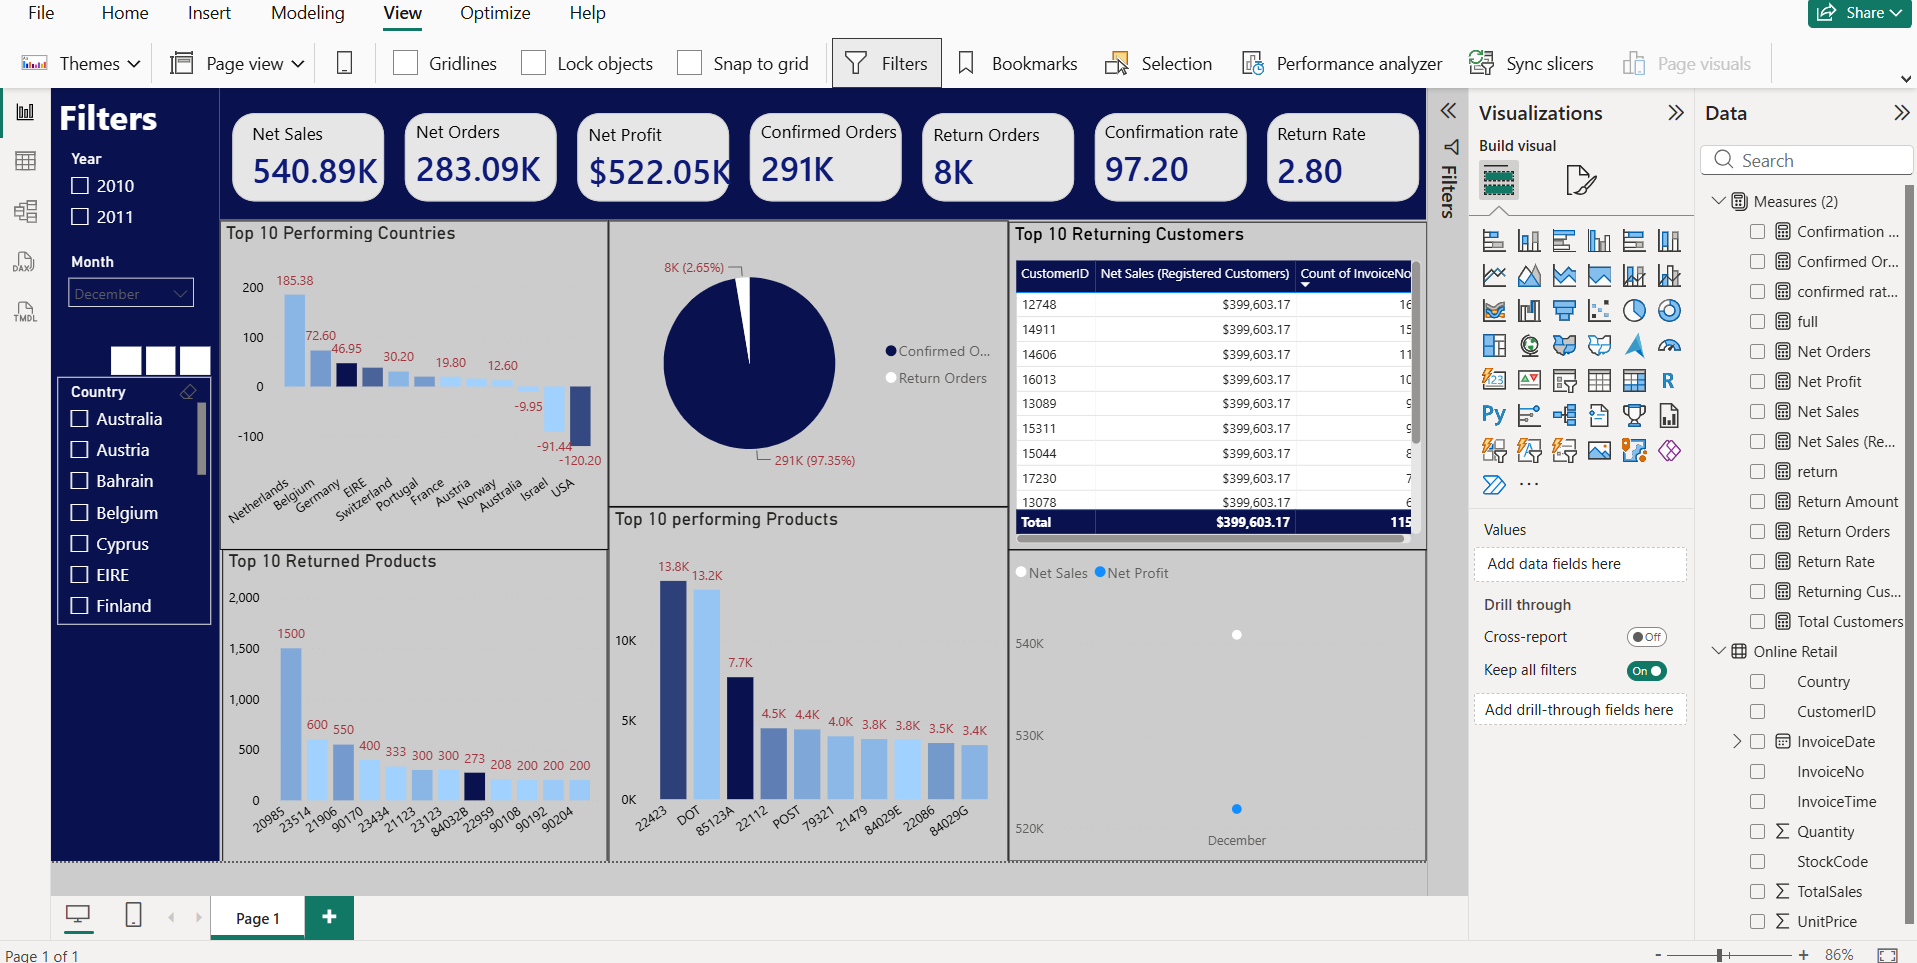

What the dashboard file says about the page in this screenshot:
{"tool":"powerbi","page":{"name":"Page 1","canvas":[1280,720],"ordinal":0},"visuals":[{"type":"shape","box":[0,0,156.8,719.9],"z":0},{"type":"shape","box":[156.8,0,1122.1,122.7],"z":1000},{"type":"barChart","fields":{"Category":["Online Retail.CustomerID"]},"box":[158.6,471.5,541.3,249.5],"z":2000},{"type":"slicer","fields":{"Values":["Online Retail.Country"]},"box":[2.3,540.7,143,179.1],"z":3000},{"type":"slicer","fields":{"Values":["Online Retail.InvoiceDate.Variation.Date Hierarchy.Year"]},"box":[2.8,52.4,157.8,105.7],"z":4000},{"type":"lineChart","title":"Net Sales and Net Profit Trend","fields":{"Category":["Online Retail.InvoiceDate.Variation.Date Hierarchy.Year","Online Retail.InvoiceDate.Variation.Date Hierarchy.Quarter","Online Retail.InvoiceDate.Variation.Date Hierarchy.Month","Online Retail.InvoiceDate.Variation.Date Hierarchy.Day"],"Y":["Measures (2).Net Sales","Measures (2).Net Profit"]},"box":[890.3,429.5,388.6,290.4],"z":5000},{"type":"shape","box":[168.8,23.1,141.3,82.3],"z":6000},{"type":"shape","box":[329.1,23.1,141.3,82.3],"z":7000},{"type":"shape","box":[489.5,23.1,141.3,82.3],"z":8000},{"type":"shape","box":[649.9,23.1,141.3,82.3],"z":9000},{"type":"shape","box":[810.2,23.1,141.3,82.3],"z":10000},{"type":"shape","box":[970.6,23.1,141.3,82.3],"z":11000},{"type":"shape","box":[1131,23.1,141.3,82.3],"z":12000},{"type":"cardVisual","fields":{"Data":["Measures (2).Net Sales"]},"box":[157.8,12,227.8,104.3],"z":13000},{"type":"cardVisual","fields":{"Data":["Measures (2).Net Orders"]},"box":[310.1,9.6,227.8,104.3],"z":14000},{"type":"cardVisual","fields":{"Data":["Measures (2).Confirmed Orders"]},"box":[631.2,9.6,196.2,104.3],"z":15000},{"type":"cardVisual","fields":{"Data":["Measures (2).Return Orders"]},"box":[791.8,12.3,196.2,104.3],"z":16000},{"type":"cardVisual","fields":{"Data":["Measures (2).Return Rate"]},"box":[1111.5,12,160.5,104.3],"z":17000},{"type":"cardVisual","fields":{"Data":["Measures (2).Net Profit"]},"box":[470.7,12.3,227.8,104.3],"z":18000},{"type":"cardVisual","fields":{"Data":["Measures (2).Confirmation rate"]},"box":[950.9,9.6,196.2,104.3],"z":19000},{"type":"listSlicer","fields":{"Values":["Online Retail.InvoiceDate.Variation.Date Hierarchy.Month"]},"box":[5.8,139.5,132.6,401.2],"z":20000},{"type":"clusteredColumnChart","title":"Top 10 Returned Products","fields":{"Category":["Online Retail.StockCode"],"Y":["Measures (2).Return Rate"]},"box":[159.5,429.5,358.6,291.8],"z":21000},{"type":"columnChart","title":"Top 10 performing Products","fields":{"Category":["Online Retail.StockCode"],"Y":["Measures (2).Net Sales"]},"box":[518.6,389.5,372.1,330.2],"z":22000},{"type":"tableEx","title":"Top 10 Returning Customers","fields":{"Values":["Online Retail.CustomerID","Measures (2).Net Sales (Registered Customers)","Online Retail.InvoiceNo"]},"box":[890.3,124.1,389.9,305.4],"z":23000},{"type":"textbox","box":[2.8,0,140.2,65.1],"z":24000},{"type":"pieChart","fields":{"Y":["Measures (2).Confirmed Orders","Measures (2).Return Orders"]},"box":[518.6,123.3,372.1,266.3],"z":25000},{"type":"clusteredColumnChart","title":"Top 10 Performing Countries","fields":{"Category":["Online Retail.Country"],"Y":["Measures (2).Net Sales"]},"box":[156.8,122.7,361.3,306.8],"z":26000}]}

Visuals, with their boxes on the page's 1280x720 design canvas (x1, y1, x2, y2). These are canvas units, not pixel positions in the 1917x963 screenshot, which may show the page scaled, cropped or inside an application window:
shape: l=0, t=0, r=157, b=720
shape: l=157, t=0, r=1279, b=123
barChart - Online Retail.CustomerID: l=159, t=472, r=700, b=721
slicer - Online Retail.Country: l=2, t=541, r=145, b=720
slicer - Online Retail.InvoiceDate.Variation.Date Hierarchy.Year: l=3, t=52, r=161, b=158
"Net Sales and Net Profit Trend" lineChart: l=890, t=430, r=1279, b=720
shape: l=169, t=23, r=310, b=105
shape: l=329, t=23, r=470, b=105
shape: l=490, t=23, r=631, b=105
shape: l=650, t=23, r=791, b=105
shape: l=810, t=23, r=952, b=105
shape: l=971, t=23, r=1112, b=105
shape: l=1131, t=23, r=1272, b=105
cardVisual - Measures (2).Net Sales: l=158, t=12, r=386, b=116
cardVisual - Measures (2).Net Orders: l=310, t=10, r=538, b=114
cardVisual - Measures (2).Confirmed Orders: l=631, t=10, r=827, b=114
cardVisual - Measures (2).Return Orders: l=792, t=12, r=988, b=117
cardVisual - Measures (2).Return Rate: l=1112, t=12, r=1272, b=116
cardVisual - Measures (2).Net Profit: l=471, t=12, r=698, b=117
cardVisual - Measures (2).Confirmation rate: l=951, t=10, r=1147, b=114
listSlicer - Online Retail.InvoiceDate.Variation.Date Hierarchy.Month: l=6, t=140, r=138, b=541
"Top 10 Returned Products" clusteredColumnChart: l=160, t=430, r=518, b=721
"Top 10 performing Products" columnChart: l=519, t=390, r=891, b=720
"Top 10 Returning Customers" tableEx: l=890, t=124, r=1280, b=430
textbox: l=3, t=0, r=143, b=65
pieChart - Measures (2).Confirmed Orders x Measures (2).Return Orders: l=519, t=123, r=891, b=390
"Top 10 Performing Countries" clusteredColumnChart: l=157, t=123, r=518, b=430
